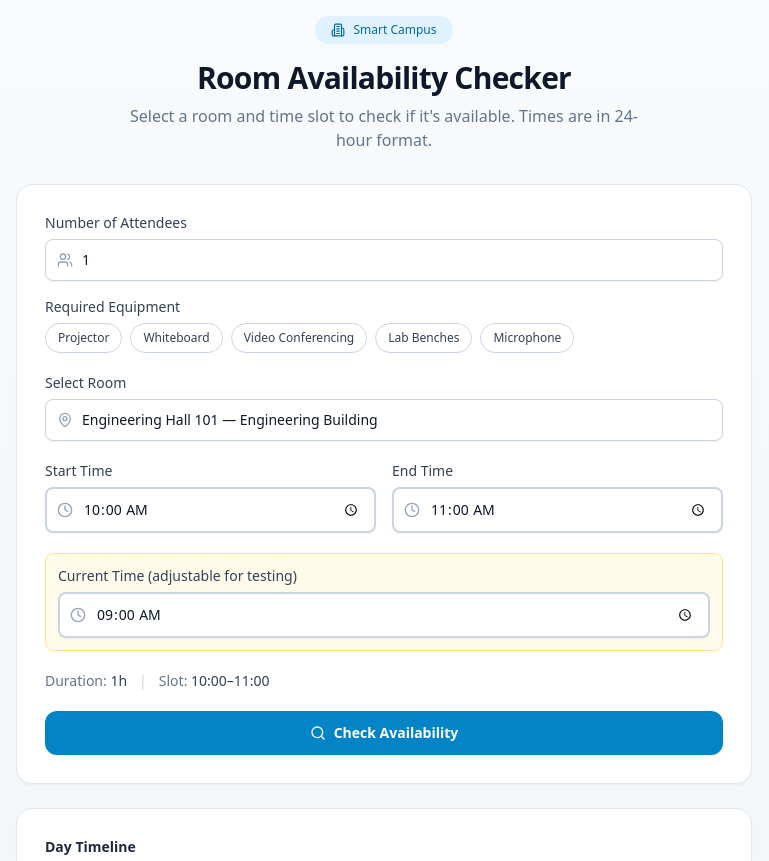
Scenario: empty state › shows a clear message when no rooms match and recovers when filters are relaxed
Replace the text in the number field labelled "Number of Attendees" with "1000" at point(384, 260), box [45, 239, 723, 281]
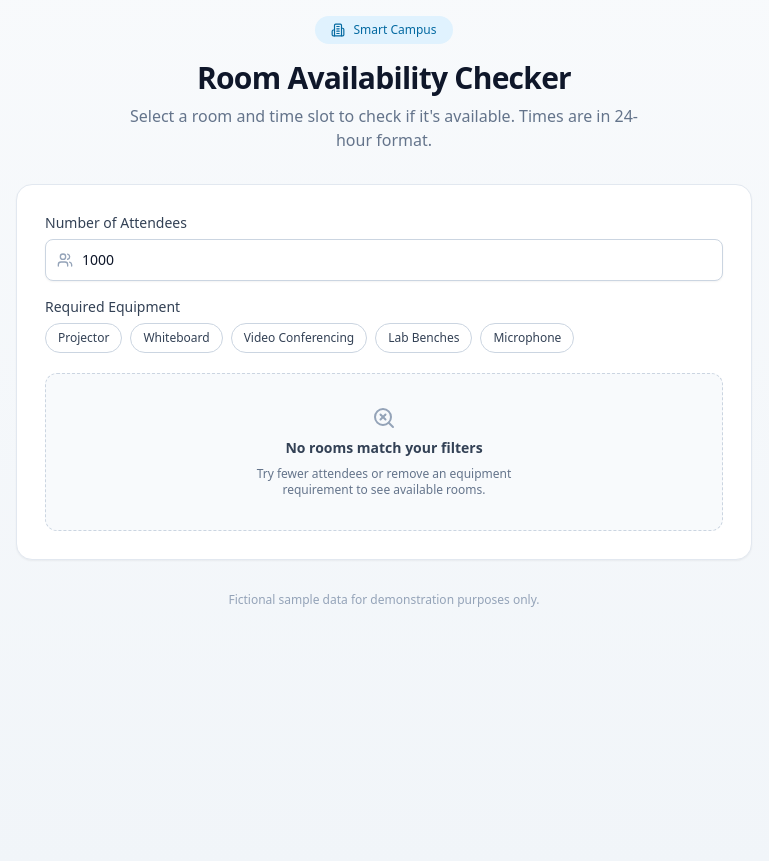
Result: the text "No rooms match your filters" is shown at [285, 438, 483, 458]
Result: the label labelled "Select Room" is gone
Result: the button "Check Availability" is gone
Replace the text in the number field labelled "Number of Attendees" with "1" at point(384, 260), box [45, 239, 723, 281]
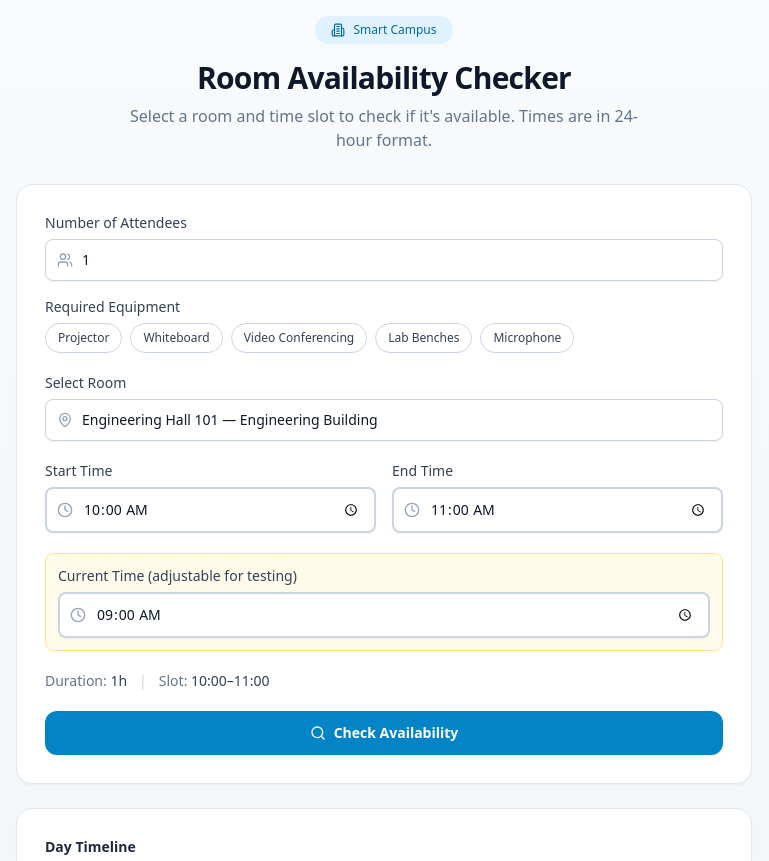
Result: the text "No rooms match your filters" is gone
Result: the dropdown labelled "Select Room" is shown at [45, 399, 723, 441]
